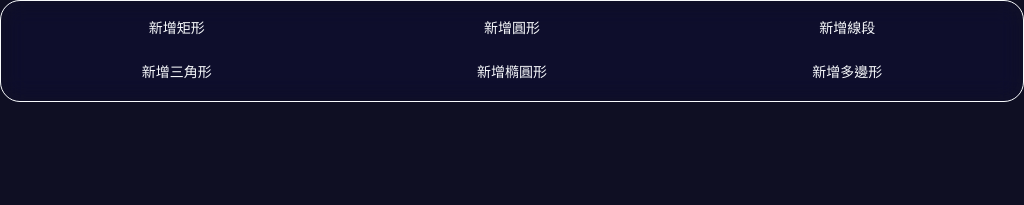
Test case: Step7TableCardInspector — Round 10 shape enhancements › addShape — element defaults › clicking "Add polygon" enters creation mode (does NOT directly add an element)
The width and height of the screenshot is (1024, 205).
Click the button with test id "shape-add-polygon": click(847, 73) [684,57,1011,89]
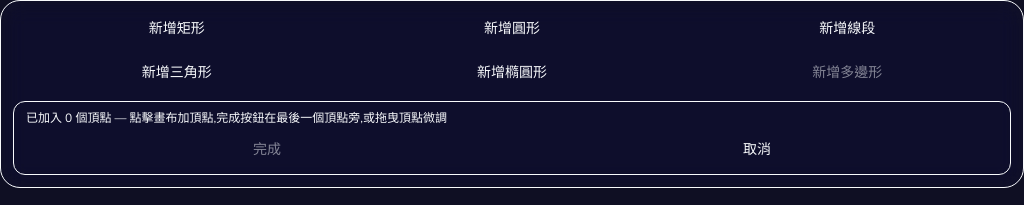
Expected: the element with test id "polygon-creation-hint" is shown, [13,101,1011,175]
